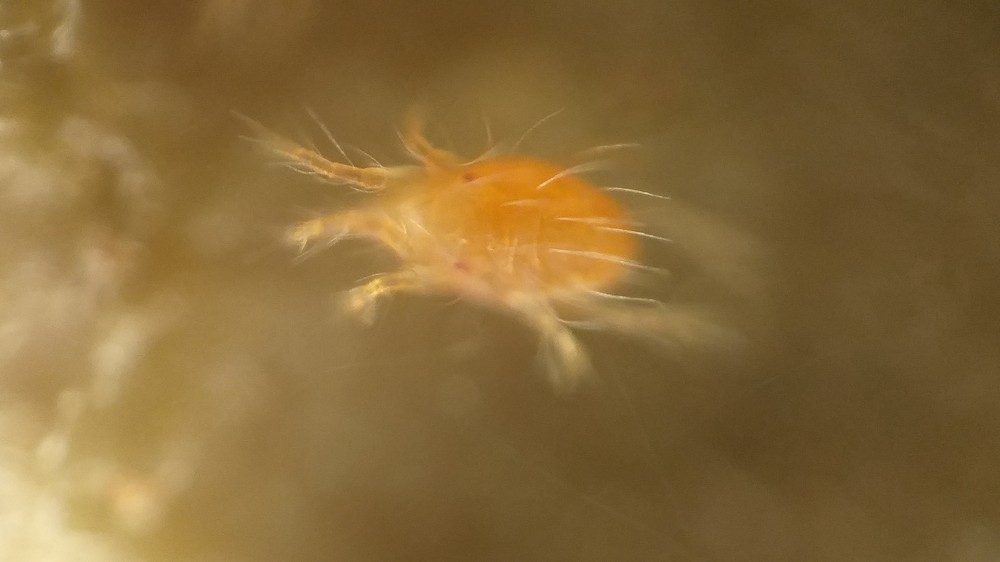Aracnido Rojo: (221, 76, 771, 416)
